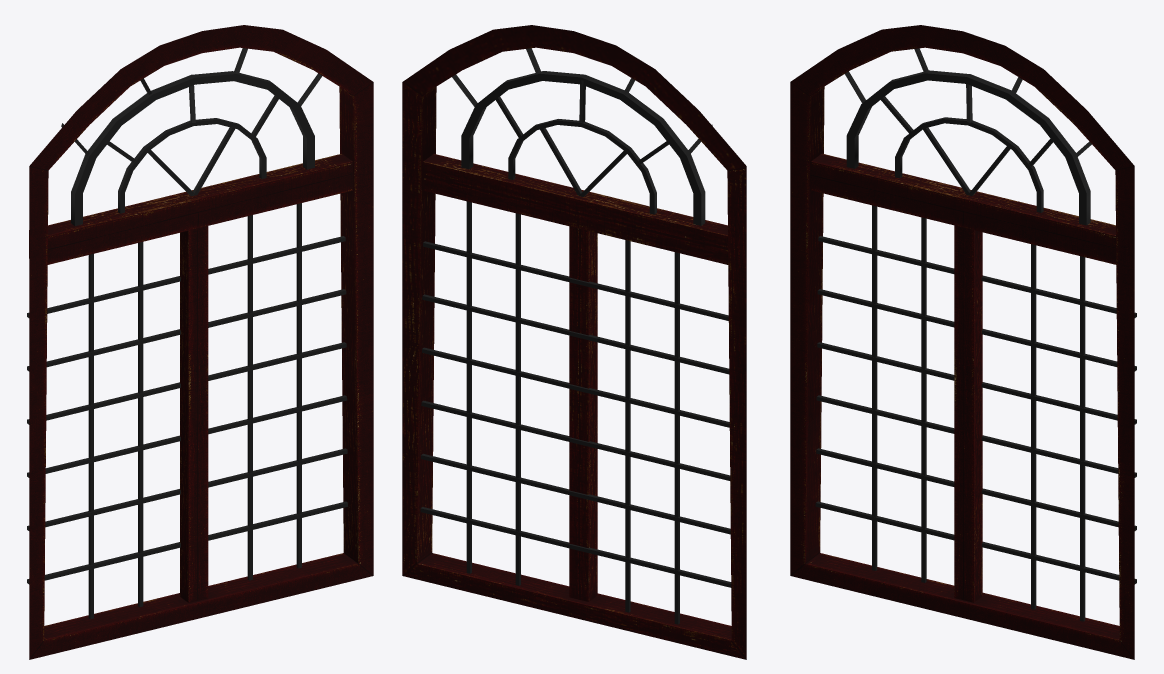
3 views of the same model, side by side, from view 1: azimuth 30°, elevation 25°; view 2: azimuth 150°, elevation 25°; view 3: azimuth 330°, elevation 25° (orthographic).
Parts seen in each view (by area): view 1: win, Object009_Material #48_0; view 2: win, Object009_Material #48_0; view 3: win, Object009_Material #48_0.
Part boxes in pixels (x1,y1,x2,y2): win: [29, 25, 373, 659]; Object009_Material #48_0: [27, 48, 347, 619]; win: [402, 25, 746, 659]; Object009_Material #48_0: [420, 48, 731, 624]; win: [790, 25, 1134, 659]; Object009_Material #48_0: [815, 48, 1136, 621].
Bounding box in the file's own units: 1300 × 2117 × 98.19.
Materials: 2 (2 with a texture image).
